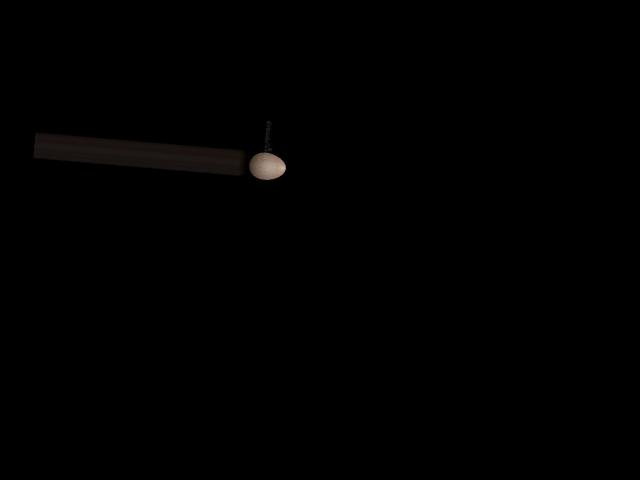egg: (247, 152, 287, 181)
